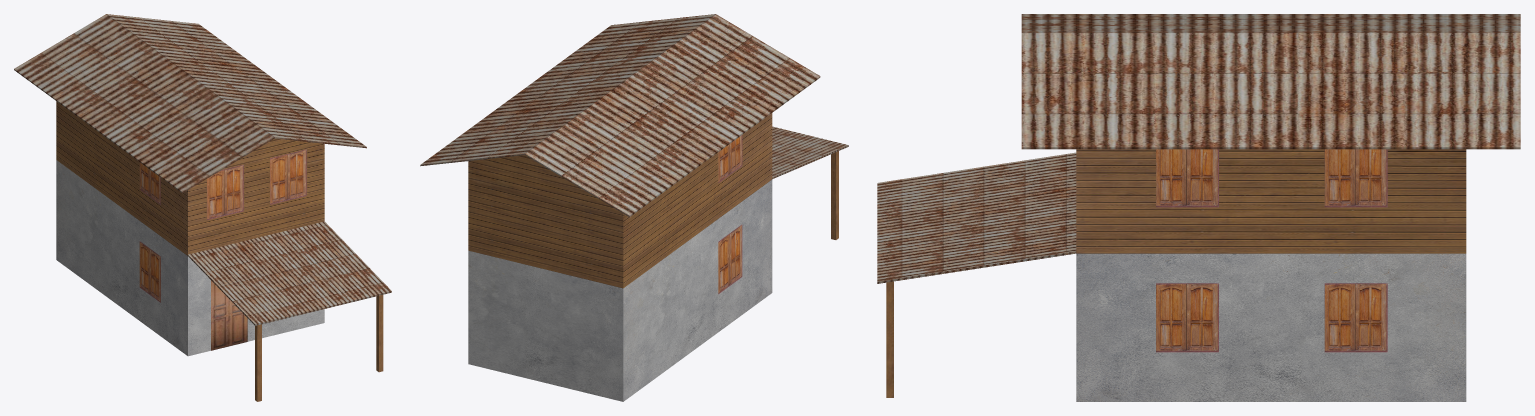
The model's file is House2.fbx.
3 renders of one model, left to right at view 1: azimuth 30°, elevation 25°; view 2: azimuth 150°, elevation 25°; view 3: azimuth 270°, elevation 25°, orthographic. The views are drawn at different scales.
Parts seen in each view (by area): view 1: House 2; view 2: House 2; view 3: House 2.
Boxes of the visible parts, x1,y1,x2,y2 form: House 2: (14, 14, 391, 401); House 2: (420, 14, 848, 401); House 2: (877, 14, 1520, 401).
Size of the model in its own units: 547 by 611 by 1114.
1 material, 1 textured.
